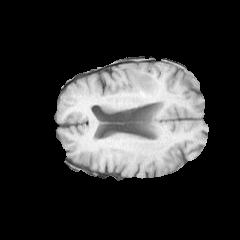glioma: (105, 63, 162, 103)
